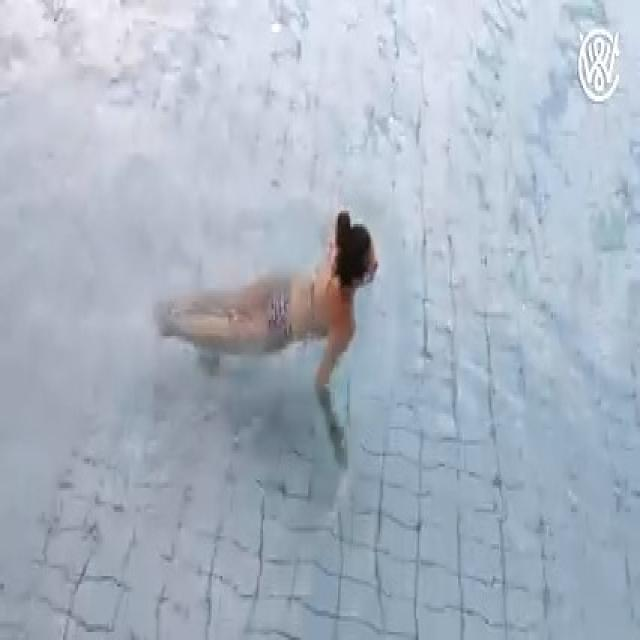Swimming: (138, 203, 387, 475)
